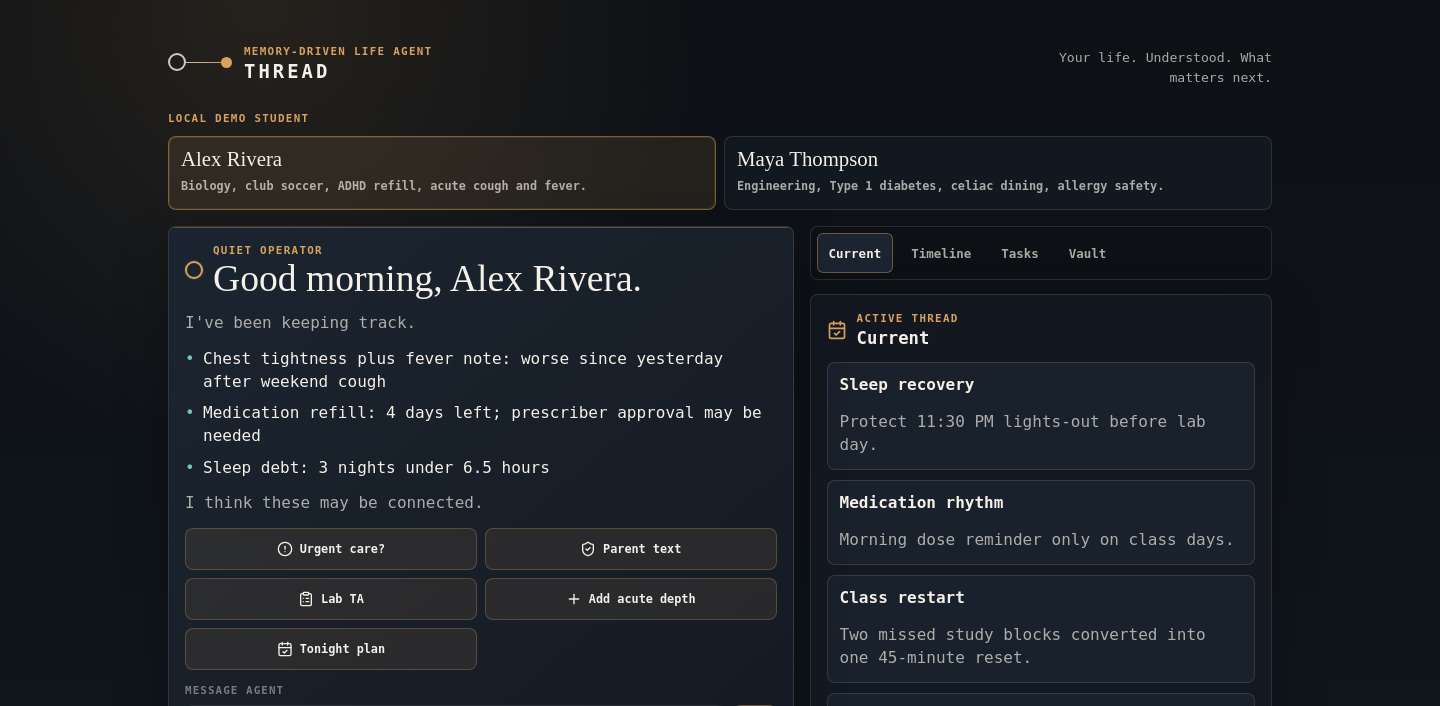
Test case: THREAD app shell › shows agent-created artifacts on the default mobile surface
This screenshot has width=1440, height=706.
Click the button "Urgent care?" at (331, 549), box x1=185 y1=528 x2=477 y2=570
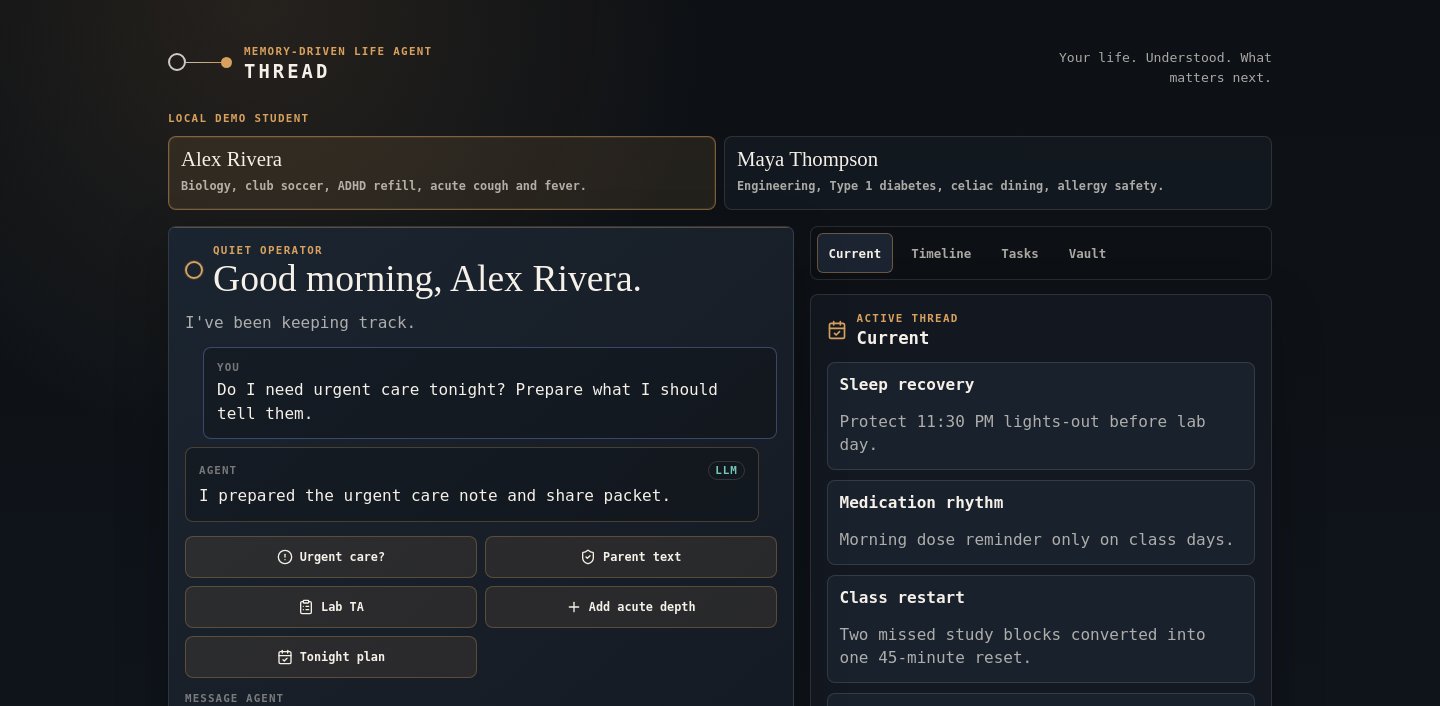
Expected: the text "I prepared the urgent care note and share packet." is shown, x1=199 y1=484 x2=745 y2=508
